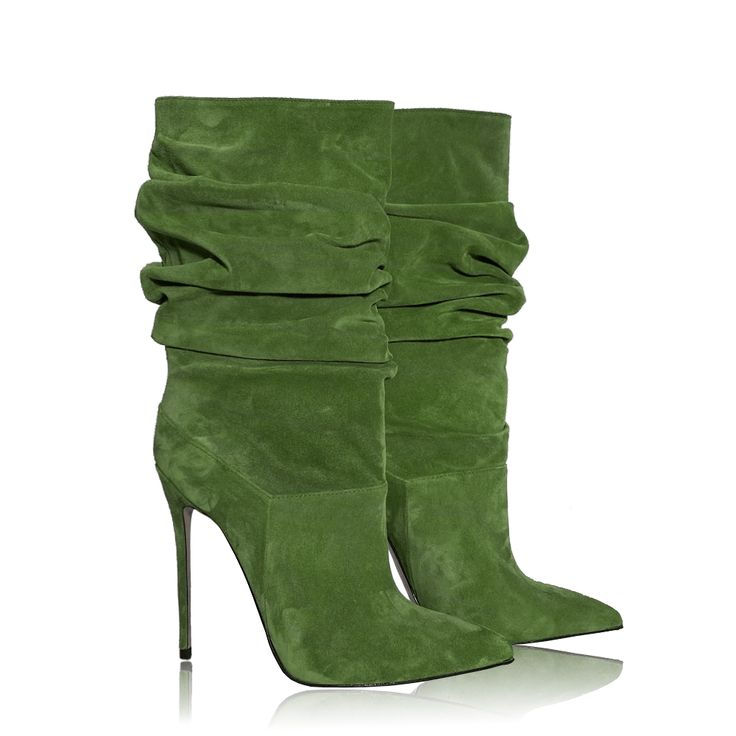gamuza: (135, 95, 624, 687)
